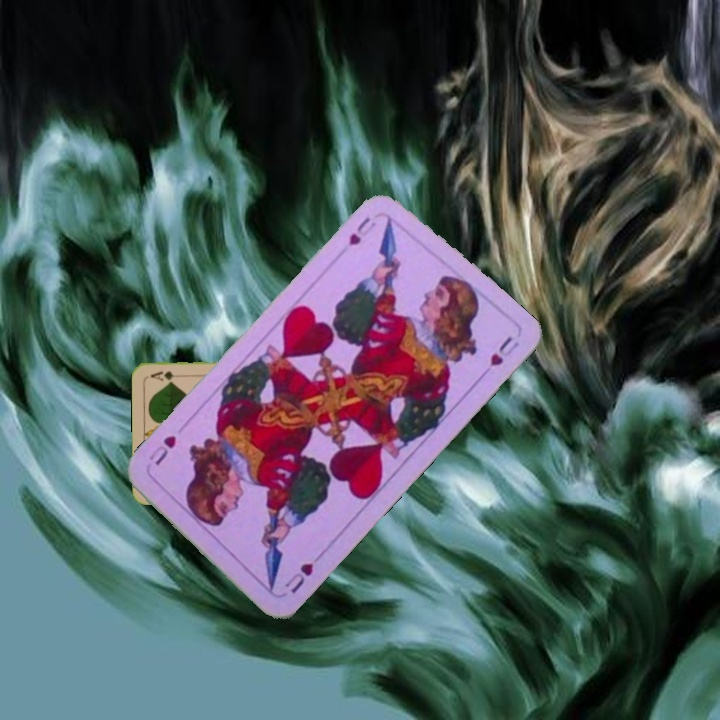HU: (281, 549, 325, 597), (344, 213, 379, 249)
